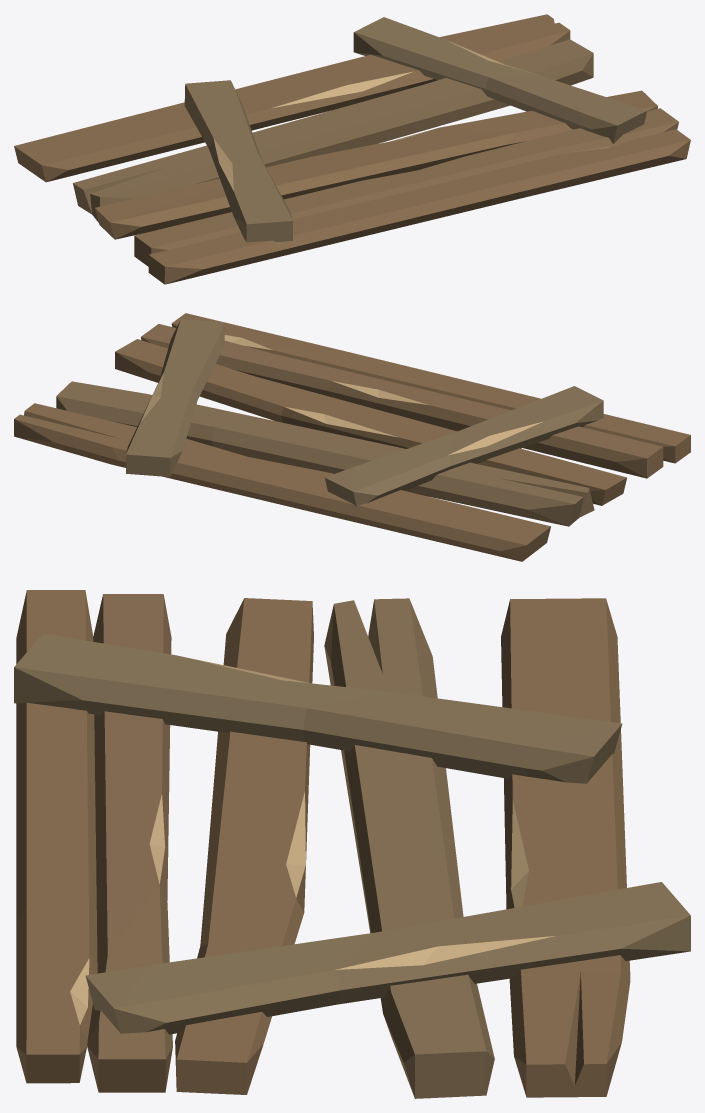
The model's file is rpgpp_ag_wall_platform_01f_4m.fbx.
3 views of the same model, one above another, from view 1: azimuth 30°, elevation 25°; view 2: azimuth 150°, elevation 25°; view 3: azimuth 270°, elevation 25° (orthographic). The views are drawn at different scales.
Parts seen in each view (by area): view 1: rpgpp_ag_wall_platform_01f_4m; view 2: rpgpp_ag_wall_platform_01f_4m; view 3: rpgpp_ag_wall_platform_01f_4m.
Part boxes in pixels (<box>): rpgpp_ag_wall_platform_01f_4m: <box>14,14,690,284</box>; rpgpp_ag_wall_platform_01f_4m: <box>14,313,690,561</box>; rpgpp_ag_wall_platform_01f_4m: <box>14,590,690,1098</box>.
Bounding box in the file's own units: 4.05 × 0.2864 × 2.43.
